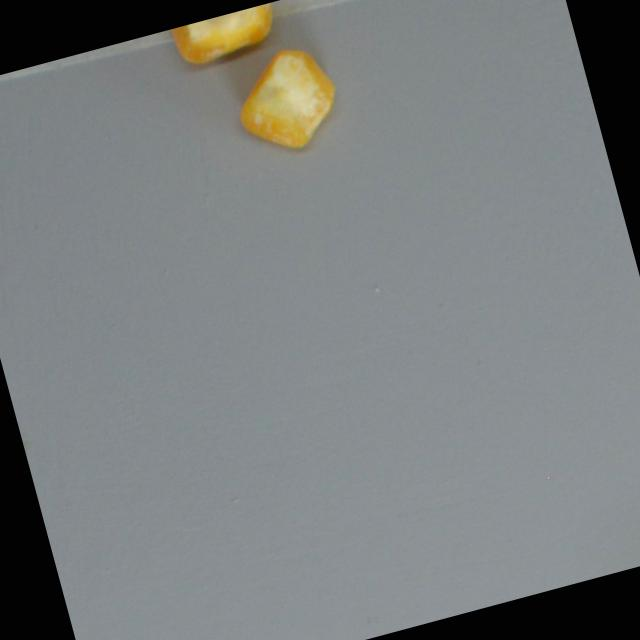dañado: (225, 36, 351, 165), (166, 0, 289, 75)
